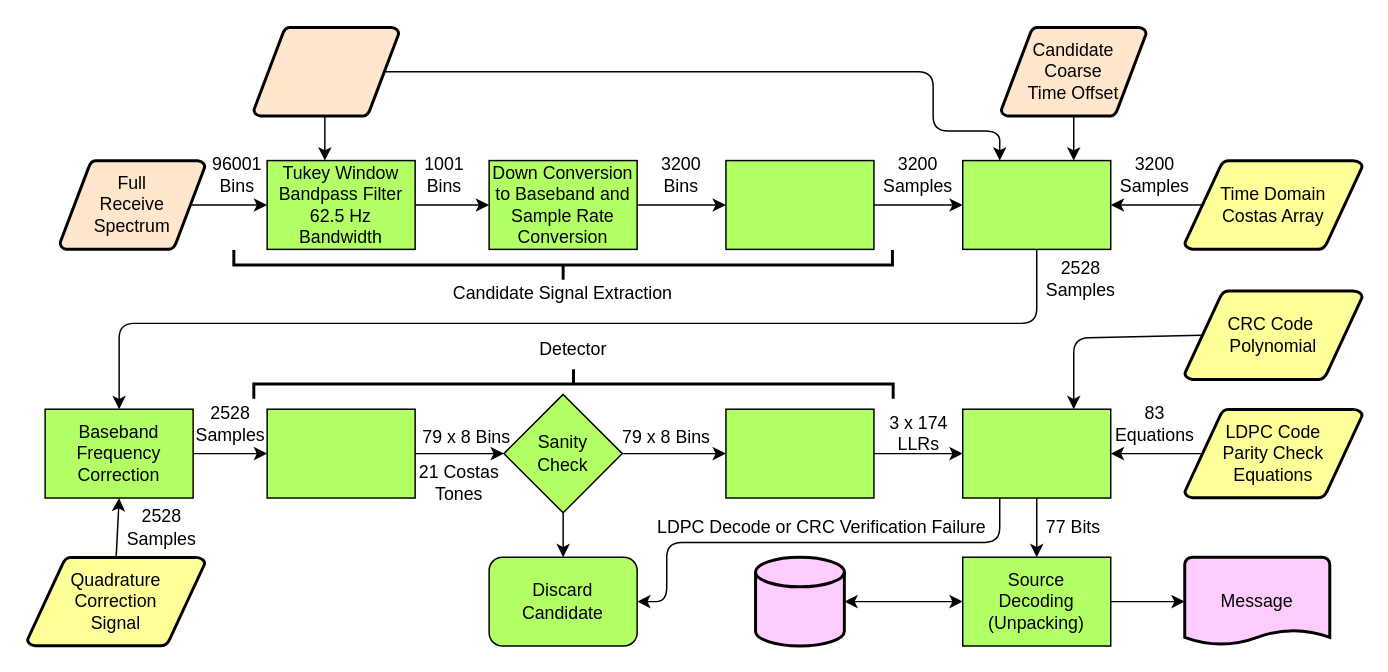
The diagram is 1388 pixels wide and 672 high, and some of its shapes have lost their labels. Here are the shapes that lost their labels. From the top down, the centre of each, then its label:
At pixel 326 71: "Candidate Coarse Frequency".
At pixel 799 204: "Complex Inverse DFT".
At pixel 1036 204: "Time Offset & Frequency Estimation".
At pixel 340 453: "Demodulation and Costas Hard Detection".
At pixel 799 453: "Soft Demapping".
At pixel 1036 453: "LDPC Decoding and CRC Verification".
At pixel 799 601: "Hashed Callsigns".
